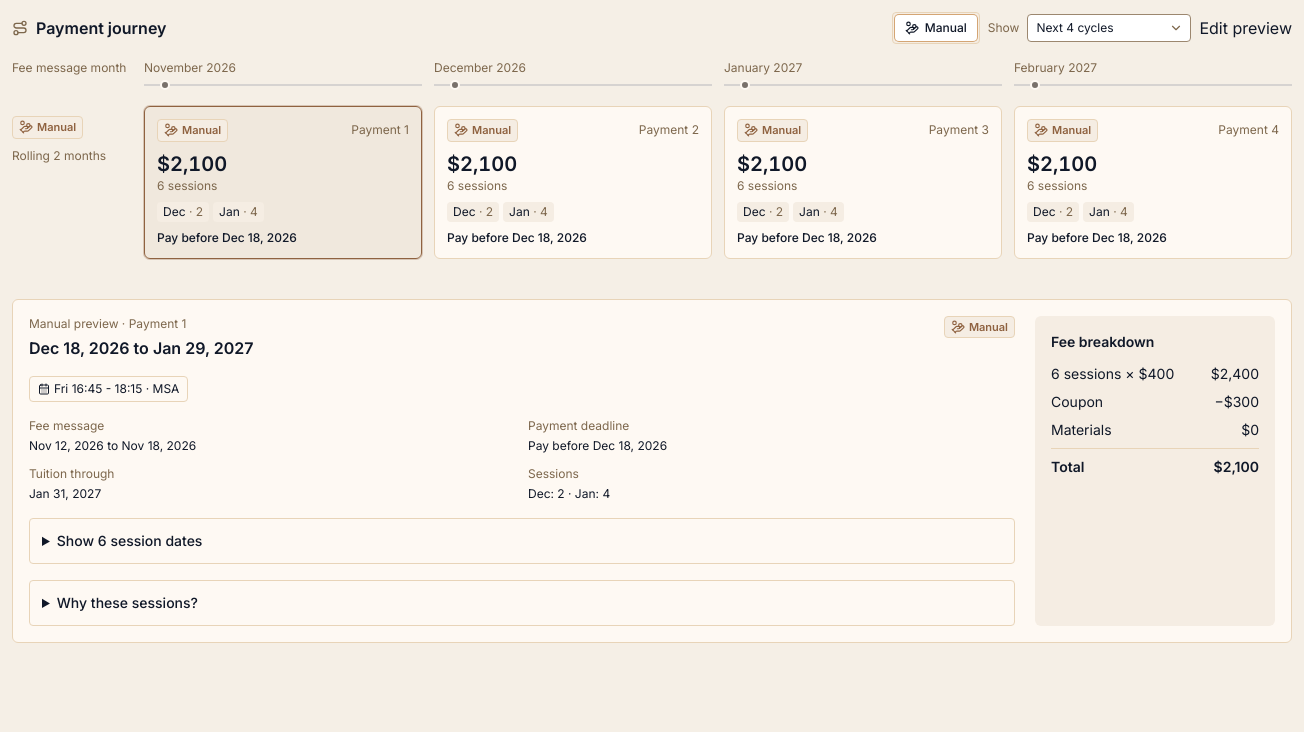
it: visual payment journey › changes the header range without moving focus or losing the selected payment
The image size is (1304, 732).
Expected: the dropdown named "Journey range" shows "Next 4 cycles", [1027,14,1191,42]
Expected: the button "Edit preview" is shown, [1199,16,1292,40]
Click the button "Manual Payment 2" at (483, 130), box [434,106,712,258]
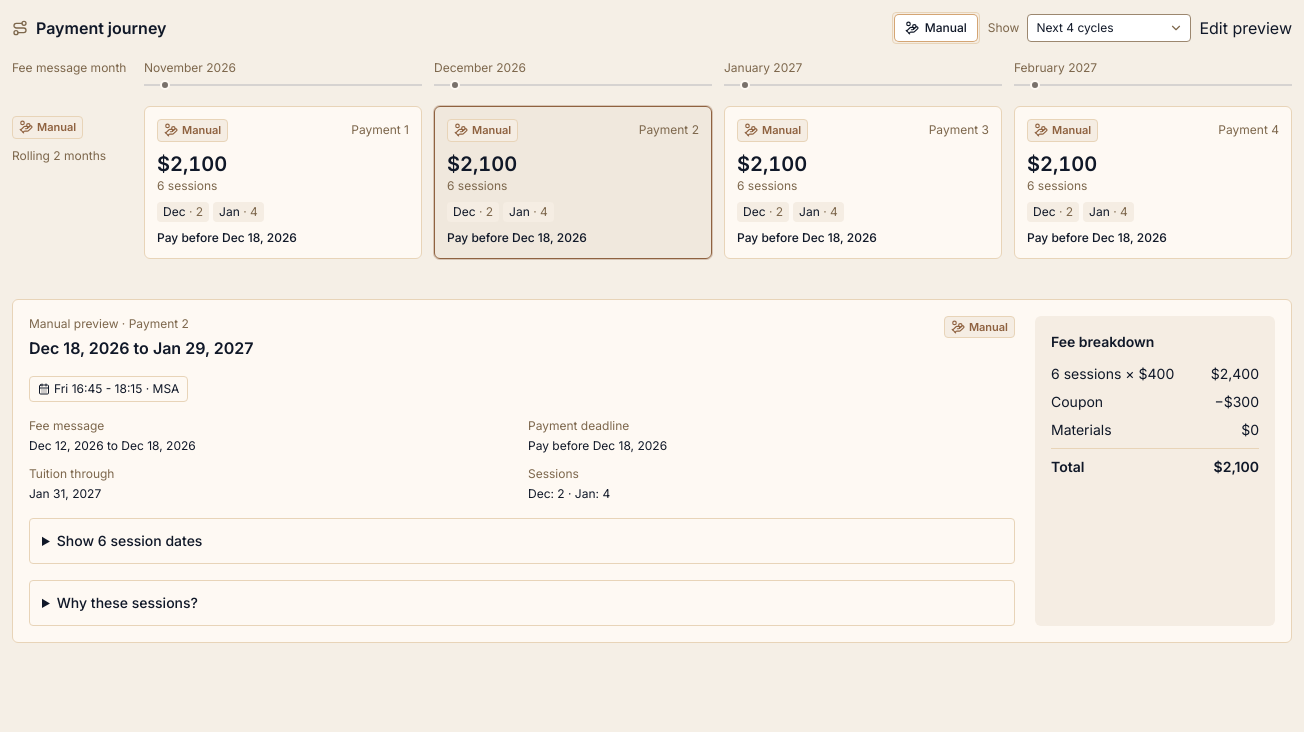
Select "Through Jun 28, 2027" in the dropdown named "Journey range" at (1109, 28), box [1027,14,1191,42]
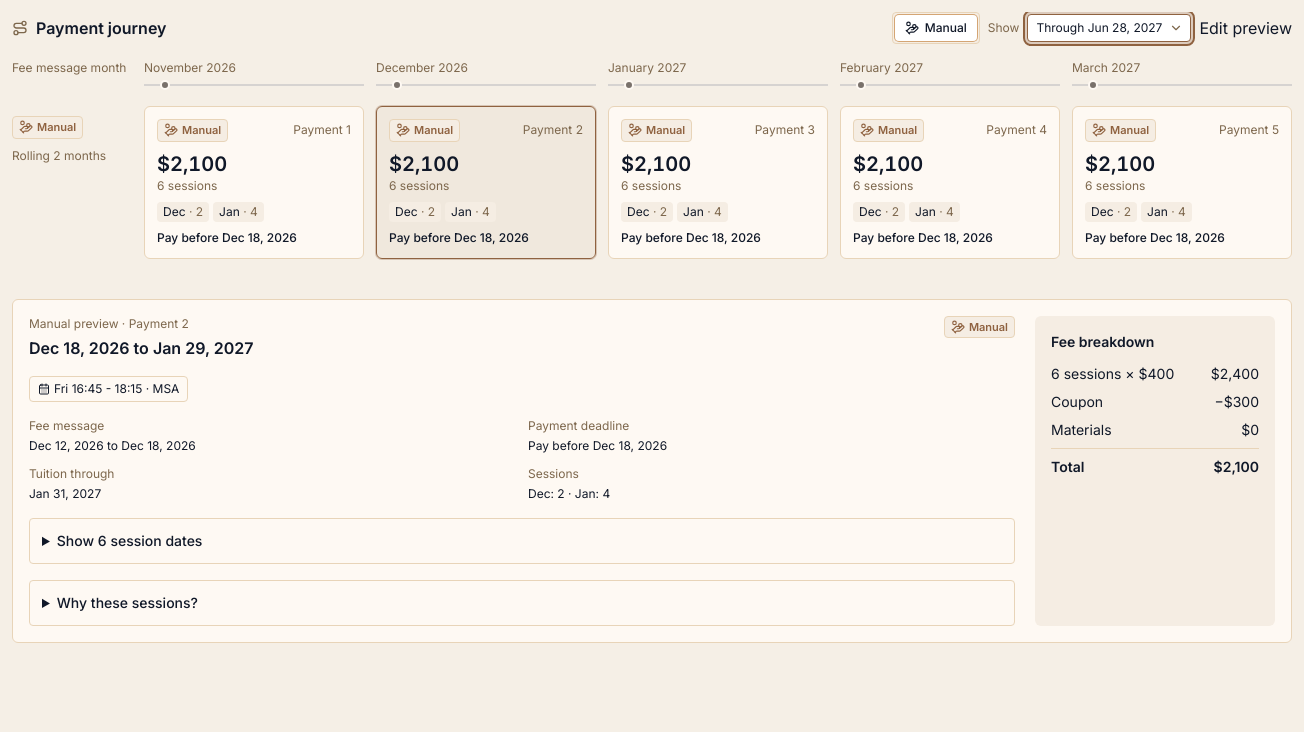
Expected: the button "Manual Payment 5" is shown, [1072,106,1292,258]
Select "Next 4 cycles" in the dropdown named "Journey range" at (1109, 28), box [1027,14,1191,42]
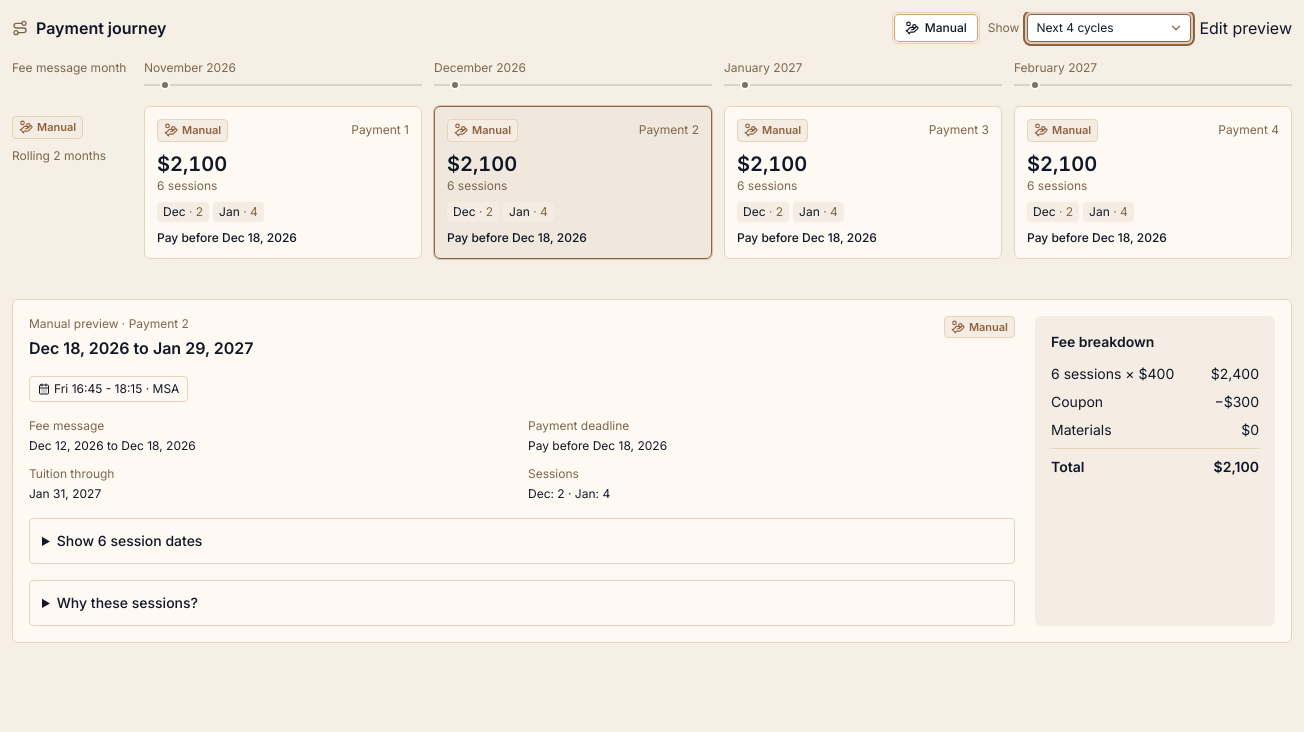
Expected: the button "Manual Payment 5" is gone
